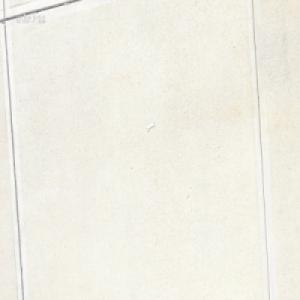Wrench: (146, 122, 154, 132)
